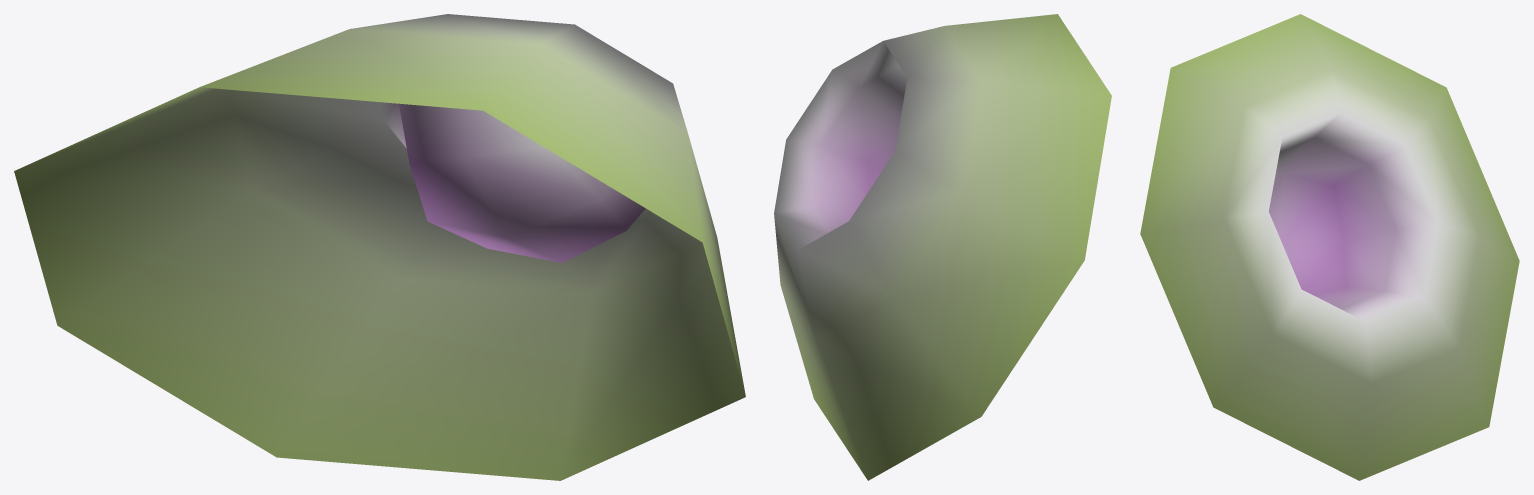
Rendered from Barnacle3.fbx.
3 renders of one model, left to right at view 1: azimuth 30°, elevation 25°; view 2: azimuth 150°, elevation 25°; view 3: azimuth 270°, elevation 25°, orthographic. The views are drawn at different scales.
Visible parts, largest first — view 1: Barnacle3; view 2: Barnacle3; view 3: Barnacle3.
Part boxes in pixels (x1,y1,x2,y2): Barnacle3: [14, 14, 745, 480]; Barnacle3: [774, 14, 1111, 480]; Barnacle3: [1140, 14, 1519, 480].
Size of the model in its own units: 78.89 by 71.28 by 70.75.
